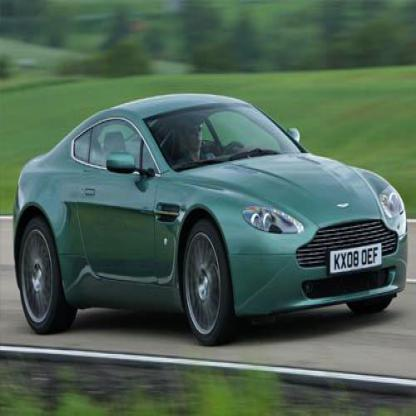Vehicle: (10, 89, 413, 352)
